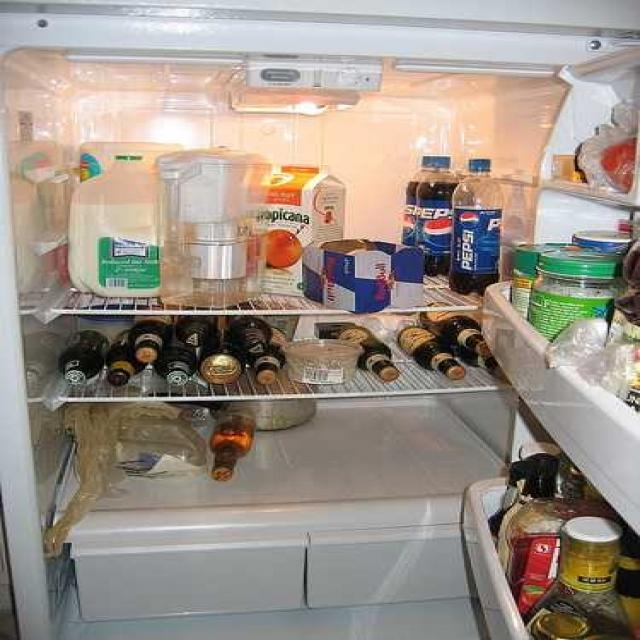refrigerator: (4, 47, 636, 640)
